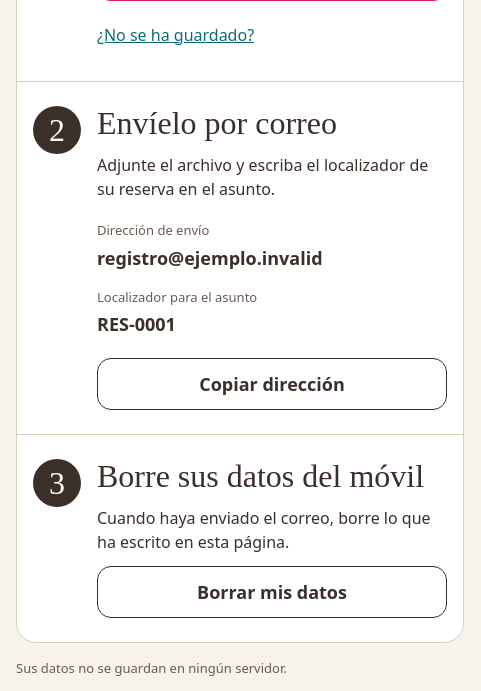
Test case: Pantalla Final › copiar con portapapeles: copia la dirección y lo confirma
(page scrolled)
Click the button with class "step__button" showing "Copiar dirección" at (272, 384), box x1=97 y1=358 x2=447 y2=410
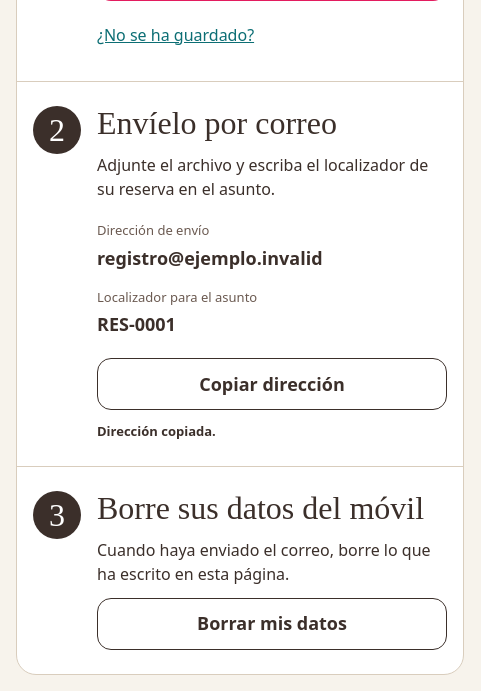
Expected: the text "Dirección copiada." is shown, x1=97 y1=422 x2=216 y2=440
